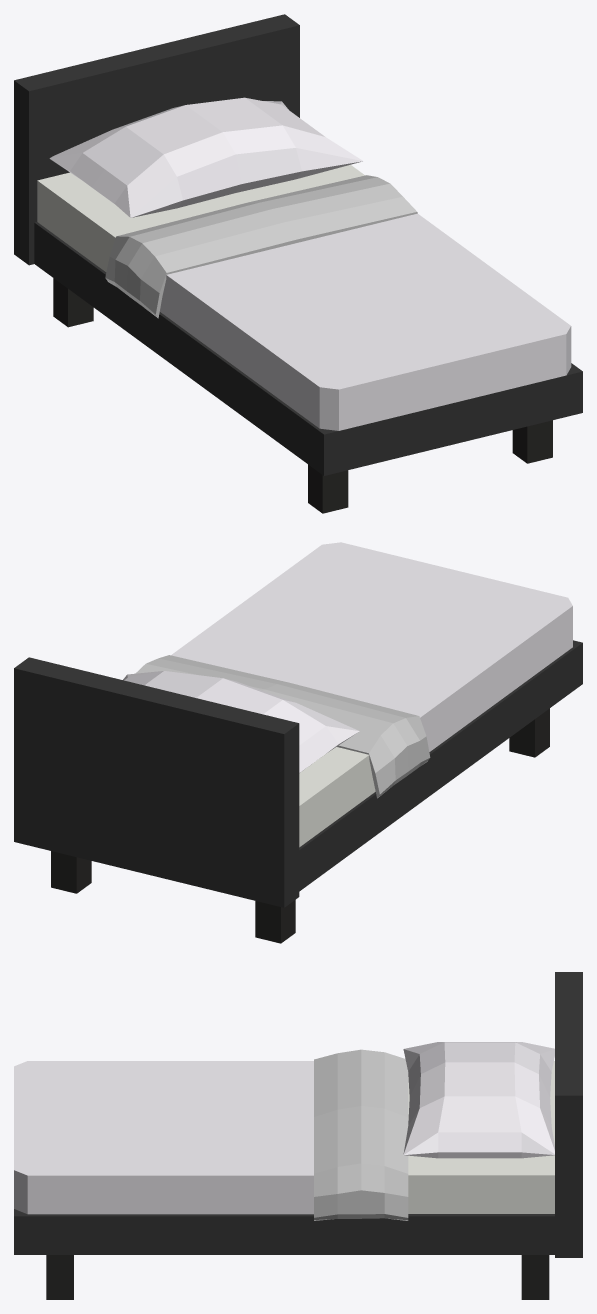
Rendered from Bed_2A.fbx.
3 views of the same model, one above another, from view 1: azimuth 30°, elevation 25°; view 2: azimuth 150°, elevation 25°; view 3: azimuth 270°, elevation 25° (orthographic). The views are drawn at different scales.
Visible parts, largest first — view 1: polySurface1557; view 2: polySurface1557; view 3: polySurface1557.
Boxes of the visible parts, x1,y1,x2,y2 form: polySurface1557: (14, 14, 582, 513); polySurface1557: (14, 542, 582, 943); polySurface1557: (14, 972, 582, 1299).
Bounding box in the file's own units: 2.11 × 1.65 × 4.
1 material, 1 textured.
